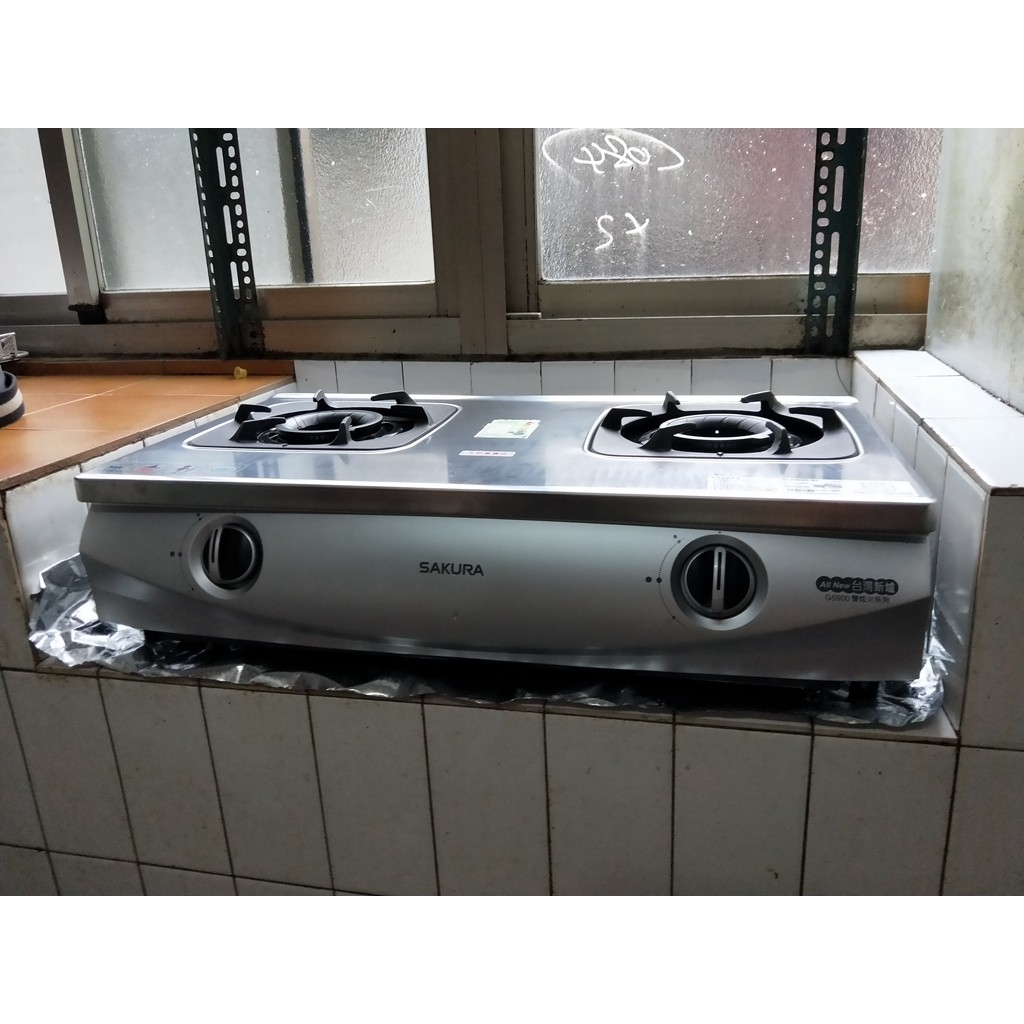gasoven: (62, 376, 953, 735)
